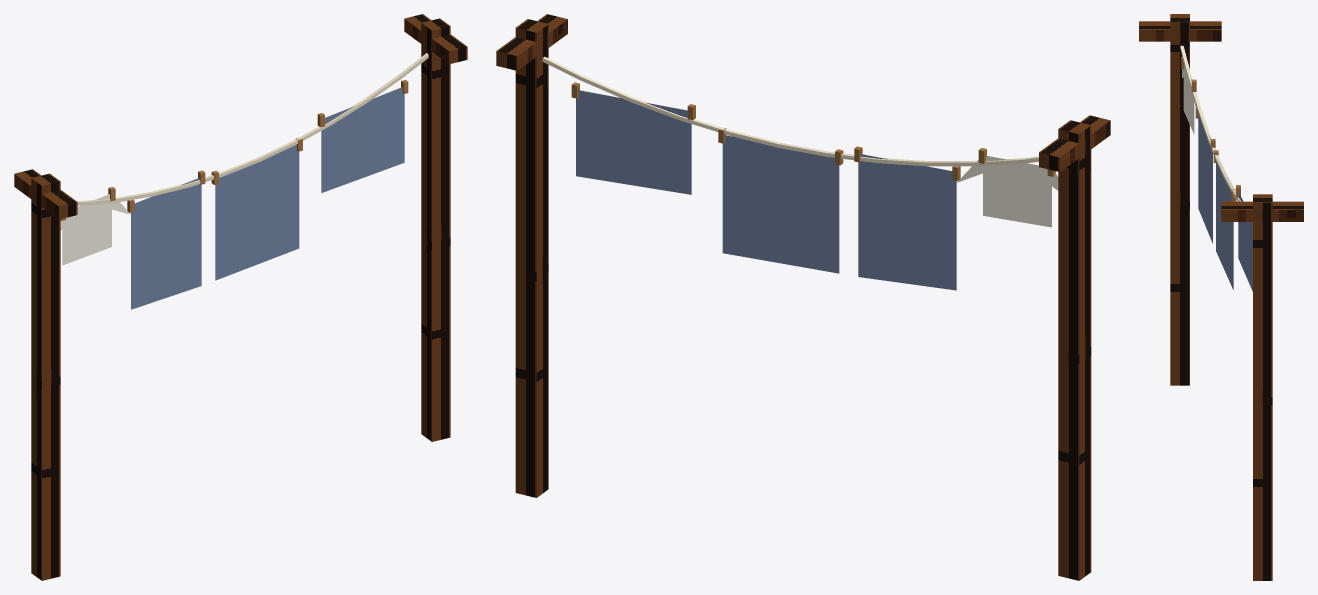
File: scene_laundry_1.glb
The picture shows the model from 3 angles, left to right: view 1: azimuth 30°, elevation 25°; view 2: azimuth 150°, elevation 25°; view 3: azimuth 270°, elevation 25°; orthographic projection. The views are drawn at different scales.
Parts seen in each view (by area): view 1: scene_laundry_1; view 2: scene_laundry_1; view 3: scene_laundry_1.
Boxes of the visible parts, x1=… form: scene_laundry_1: x1=14, y1=14, x2=467, y2=580; scene_laundry_1: x1=496, y1=14, x2=1110, y2=580; scene_laundry_1: x1=1139, y1=14, x2=1303, y2=580.
Size of the model in its own units: 2.92 by 2.53 by 1.
2 materials, 1 textured.
